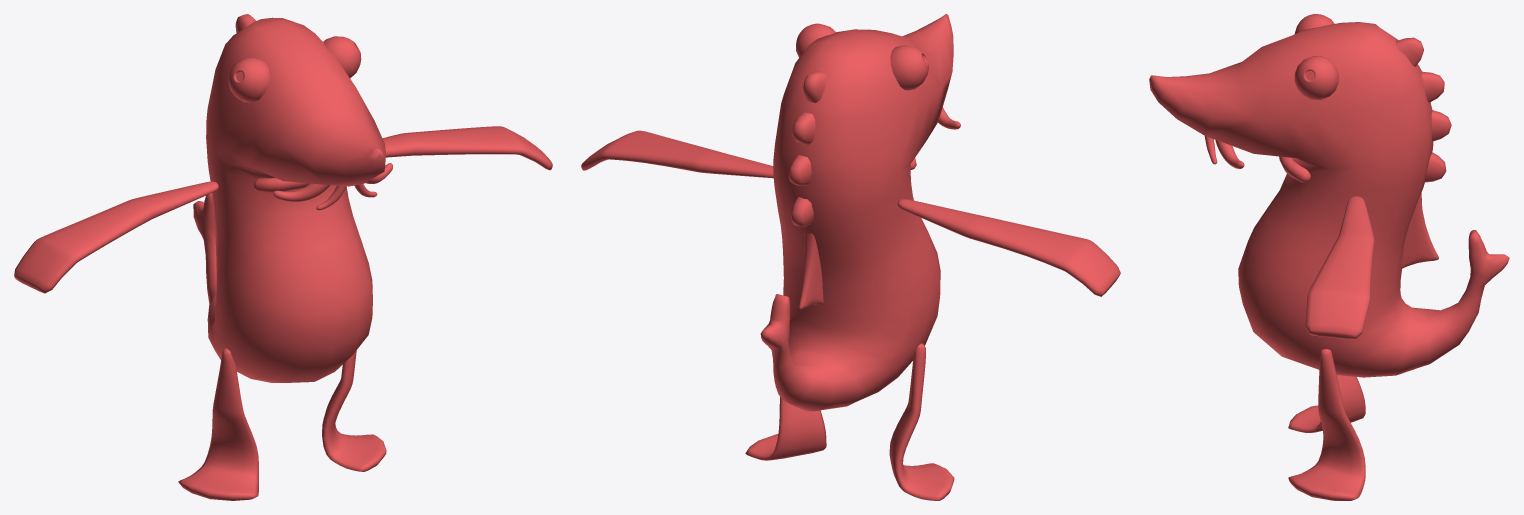
Rendered from enemy.fbx.
The picture shows the model from 3 angles, left to right: view 1: azimuth 30°, elevation 25°; view 2: azimuth 150°, elevation 25°; view 3: azimuth 270°, elevation 25°; orthographic projection. The views are drawn at different scales.
Parts seen in each view (by area): view 1: enemy_body, enemy_arms, enemy_legs, enemy_eyes, enemy_moustache, enemy_lips; view 2: enemy_body, enemy_arms, enemy_legs, enemy_back, enemy_eyes; view 3: enemy_body, enemy_legs, enemy_arms, enemy_back, enemy_eyes, enemy_moustache, enemy_lips.
Boxes of the visible parts, <box> form: enemy_body: <box>193,17,385,382</box>; enemy_arms: <box>14,126,552,293</box>; enemy_legs: <box>178,348,386,500</box>; enemy_eyes: <box>228,36,361,102</box>; enemy_moustache: <box>273,163,392,210</box>; enemy_lips: <box>253,178,309,192</box>; enemy_body: <box>760,14,953,411</box>; enemy_arms: <box>581,130,1120,296</box>; enemy_legs: <box>745,343,954,500</box>; enemy_back: <box>788,71,827,309</box>; enemy_eyes: <box>796,23,928,90</box>; enemy_body: <box>1149,22,1509,377</box>; enemy_legs: <box>1288,349,1365,500</box>; enemy_arms: <box>1305,196,1374,339</box>; enemy_back: <box>1396,37,1451,268</box>; enemy_eyes: <box>1294,14,1338,100</box>; enemy_moustache: <box>1204,136,1244,168</box>; enemy_lips: <box>1279,156,1310,182</box>.
Bounding box in the file's own units: 687 × 552 × 421.
